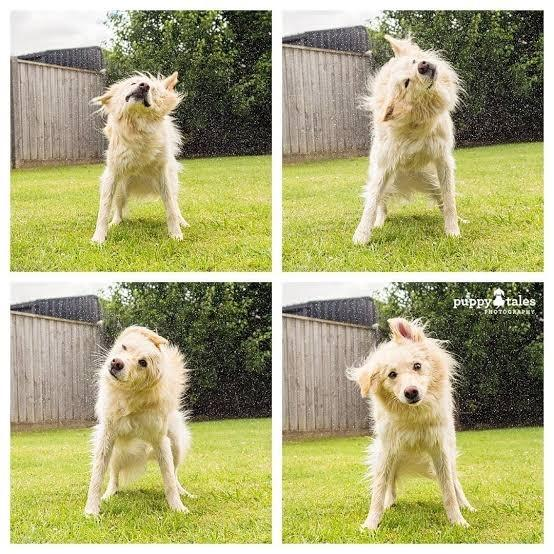adult_dog: (345, 315, 481, 532), (347, 27, 468, 248), (83, 326, 197, 517), (86, 67, 196, 245)
